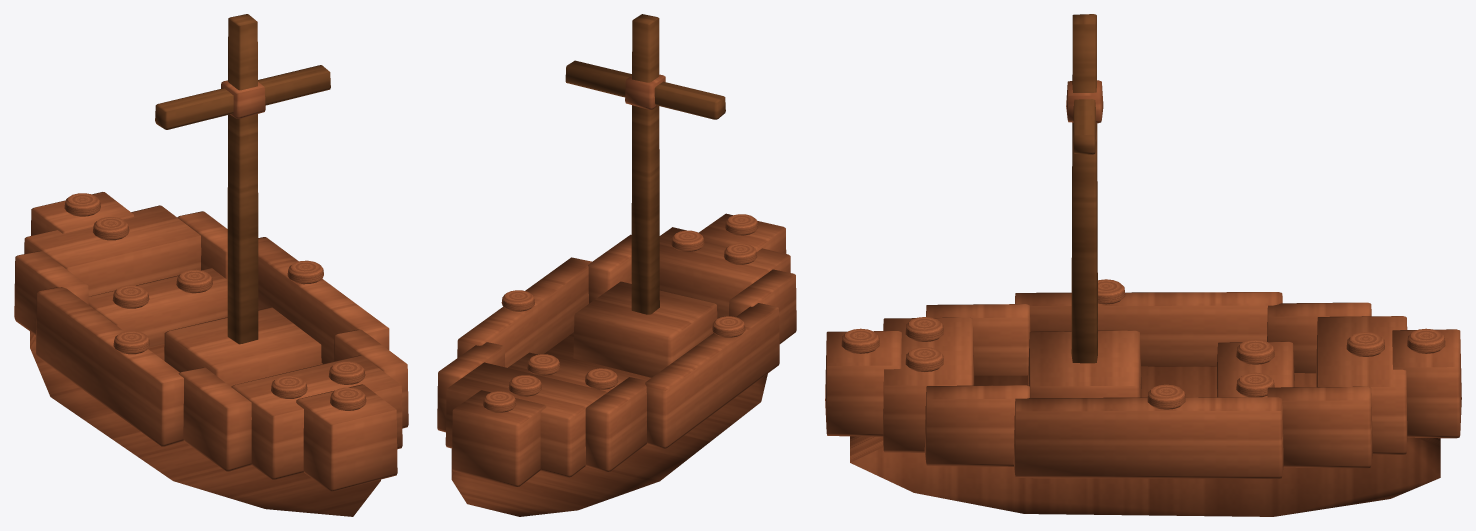
Rendered from 05_boat.glb.
3 views of the same model, side by side, from view 1: azimuth 30°, elevation 25°; view 2: azimuth 150°, elevation 25°; view 3: azimuth 270°, elevation 25° (orthographic). The views are drawn at different scales.
Visible parts, largest first — view 1: Gunwale_R_0, HullBottom, MastPole, SternDeck, BowProw, MastPedestal, BowDeck, Gunwale_L_0, Gunwale_R_1, RearBench, Yardarm, Gunwale_R_2 (+13 smaller); view 2: Gunwale_R_0, HullBottom, MastPedestal, MastPole, SternTip, SternDeck, Gunwale_L_0, BowDeck, Gunwale_R_2, Yardarm, Gunwale_R_1, Gunwale_L_2 (+14 smaller); view 3: HullBottom, Gunwale_L_0, Gunwale_R_0, MastPole, SternDeck, Gunwale_L_1, Gunwale_L_2, BowDeck, MastPedestal, BowProw, SternTip, Gunwale_R_1 (+13 smaller).
Boxes of the visible parts, x1,y1,x2,y2 form: Gunwale_R_0: (36,287,183,446); HullBottom: (30,331,380,516); MastPole: (227,14,258,344); SternDeck: (24,205,201,296); BowProw: (296,384,397,491); MastPedestal: (164,307,321,386); BowDeck: (231,355,402,479); Gunwale_L_0: (258,237,389,363); Gunwale_R_1: (178,367,251,471); RearBench: (88,268,227,347); Yardarm: (155,65,330,129); Gunwale_R_2: (14,251,88,335); Gunwale_R_0: (645,303,779,448); HullBottom: (451,373,767,516); MastPedestal: (573,281,717,377); MastPole: (631,14,659,314); SternTip: (452,390,546,486); SternDeck: (445,362,606,477); Gunwale_L_0: (457,257,592,367); BowDeck: (659,227,790,318); Gunwale_R_2: (585,377,646,471); Yardarm: (565,60,725,119); Gunwale_R_1: (729,269,796,343); Gunwale_L_2: (437,342,504,432); HullBottom: (850,436,1440,516); Gunwale_L_0: (1013,397,1283,478); Gunwale_R_0: (1015,292,1282,366); MastPole: (1071,14,1097,363); SternDeck: (1316,316,1407,454); Gunwale_L_1: (924,385,1029,466); Gunwale_L_2: (1267,386,1372,468); BowDeck: (883,317,974,452); MastPedestal: (1028,330,1141,397); BowProw: (825,331,901,436); SternTip: (1392,329,1461,438); Gunwale_R_1: (926,304,1030,375).
Size of the model in its own units: 0.81 by 1.38 by 1.79.
3 materials, 3 textured.
